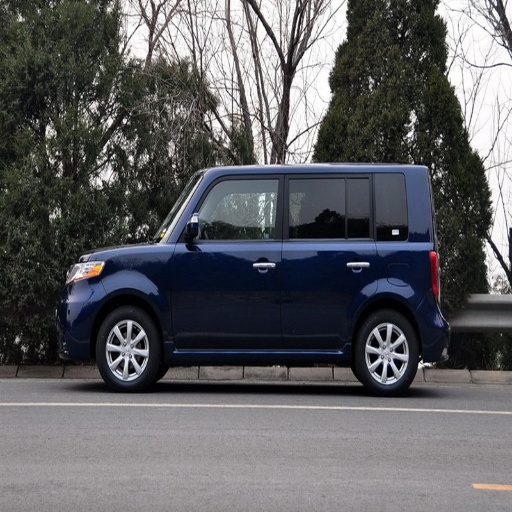back_left_door: (284, 170, 378, 349)
front_left_door: (171, 172, 284, 349)
